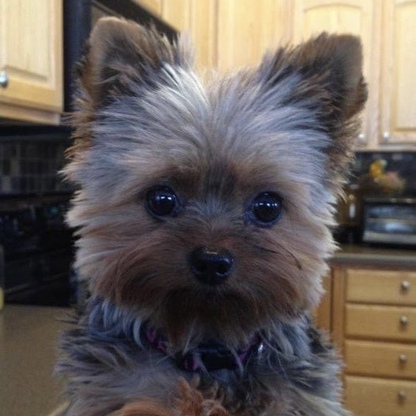yorkshire: (59, 14, 368, 413)
